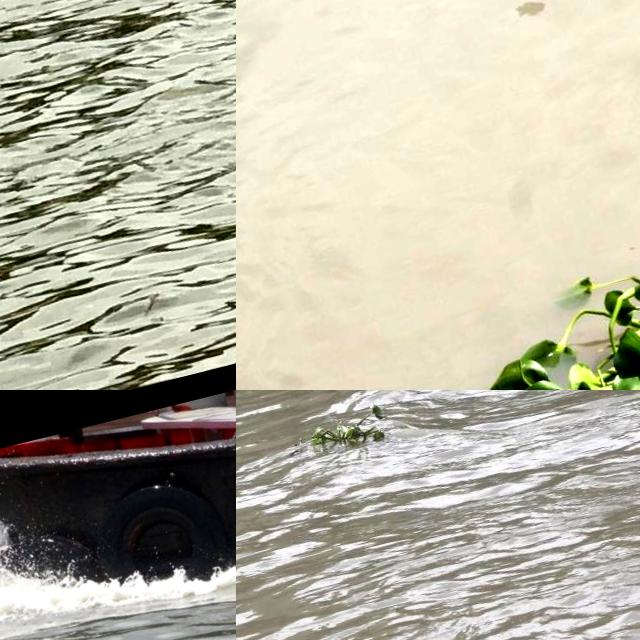water-hyacinth: (467, 268, 640, 391), (291, 395, 391, 450)
